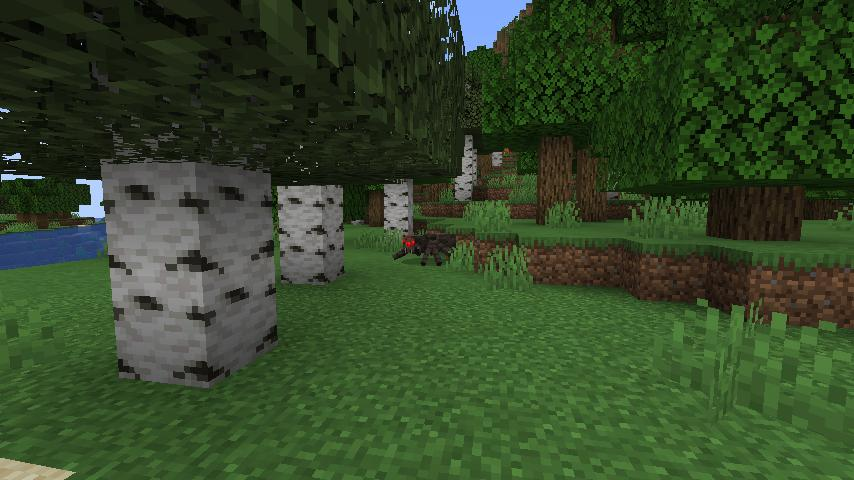spider: (391, 229, 457, 269)
